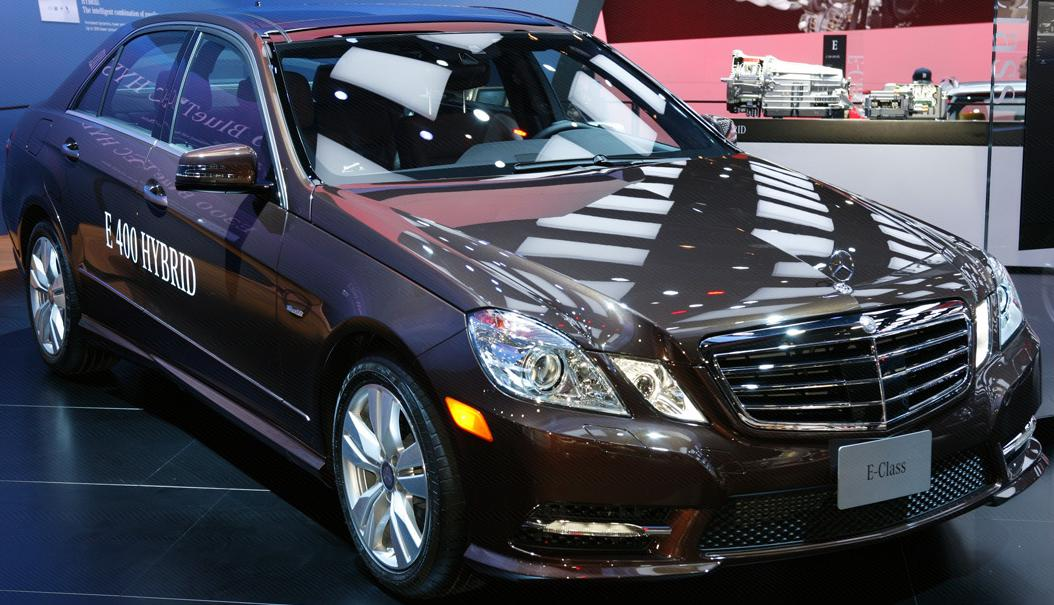front_view: (457, 232, 1036, 559)
headlight: (466, 283, 722, 433)
side_glass: (76, 23, 261, 212)
